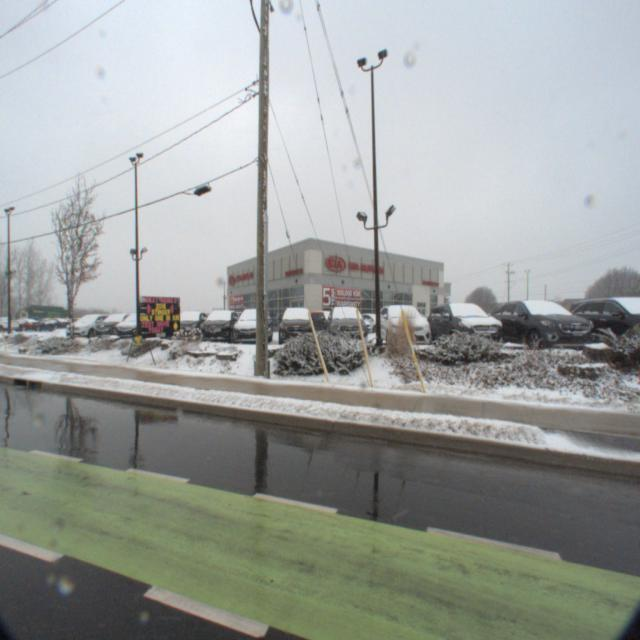Car: (481, 292, 603, 354), (420, 296, 508, 350), (373, 300, 433, 349), (324, 303, 368, 347), (227, 306, 273, 348), (194, 308, 242, 347), (160, 309, 212, 345), (56, 312, 118, 342), (274, 303, 314, 348), (106, 310, 162, 341), (85, 312, 141, 342), (305, 308, 351, 336), (349, 310, 395, 334), (26, 318, 70, 334)
Truck: (12, 302, 72, 324)
